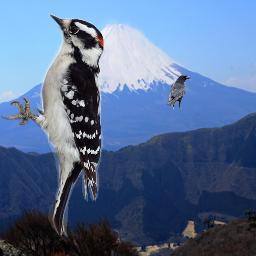Crow: (167, 75, 191, 109)
Woodpecker: (1, 11, 107, 237)
